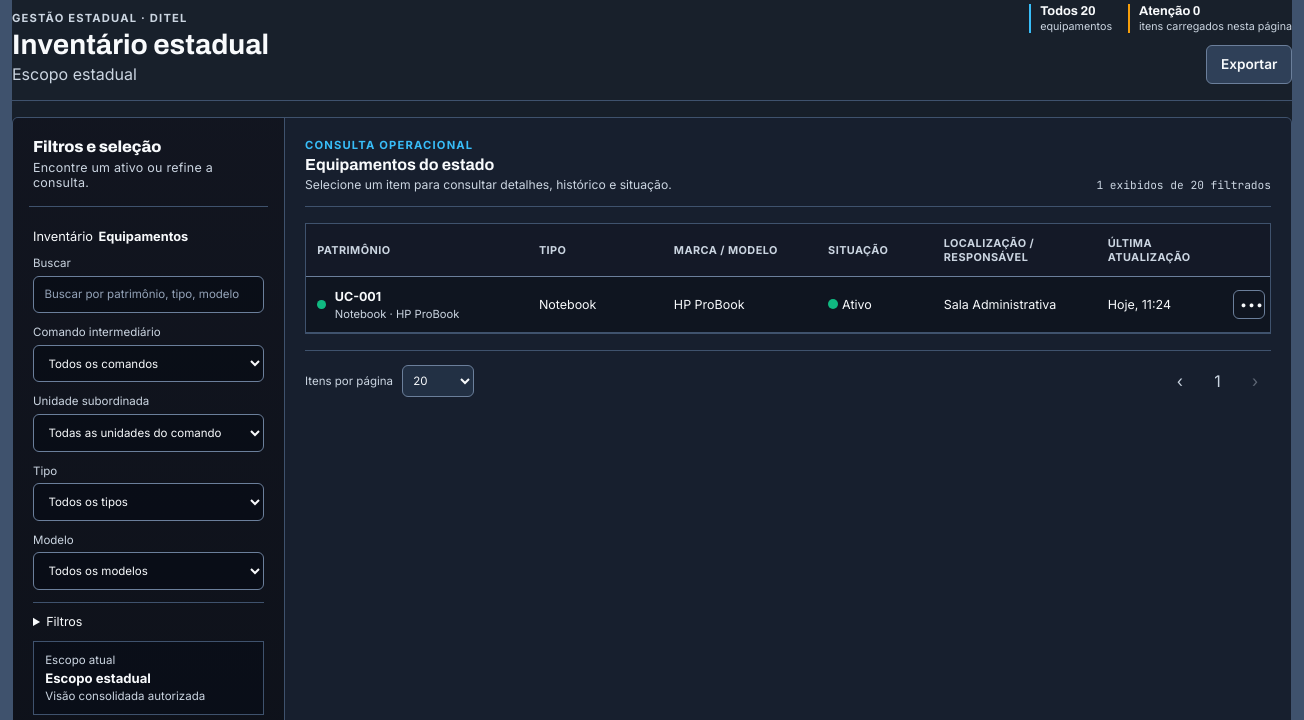
Scenario: renders inventory filters from authorized facets and exposes the page-size selector
The image size is (1304, 720).
Select "50" in the dropdown named "Quantidade por página": point(438, 381) [402, 365, 474, 397]
(page scrolled)
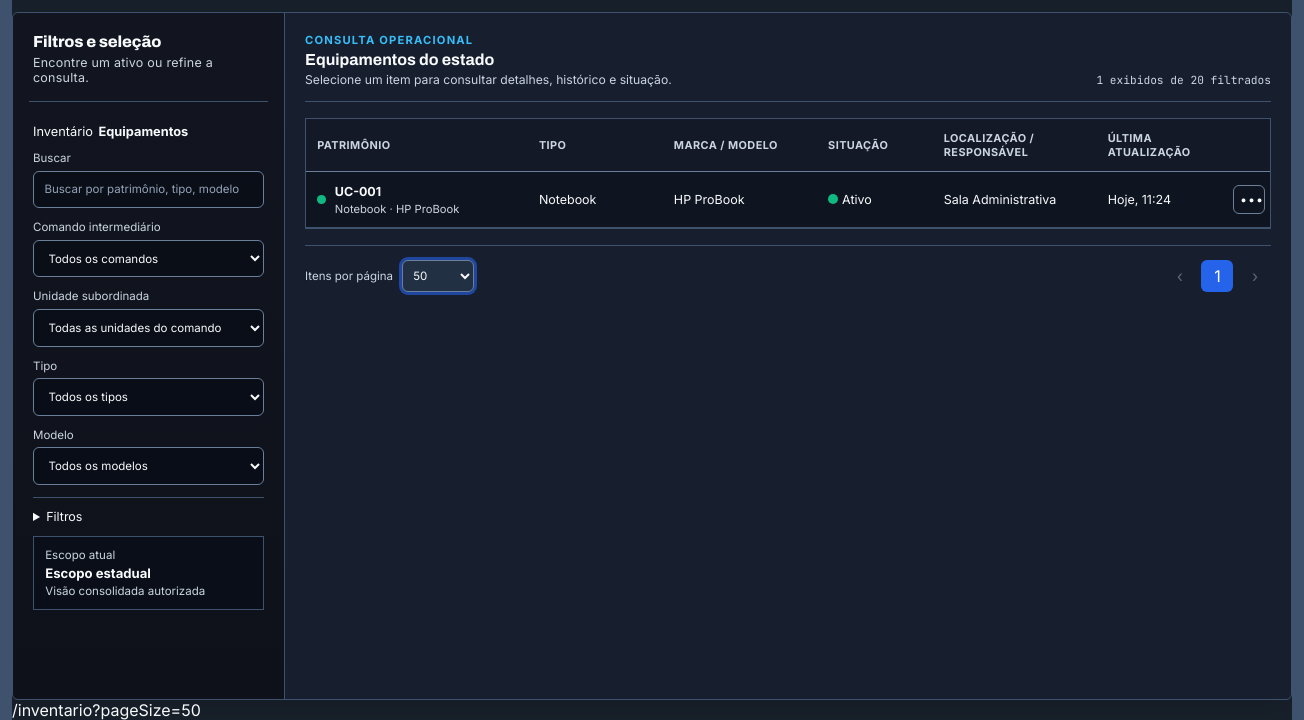
expect the text with test id "location" does not show "page=3": met, box [12, 700, 201, 719]
expect the text with test id "location" shows "pageSize=50": met, box [92, 700, 201, 719]
